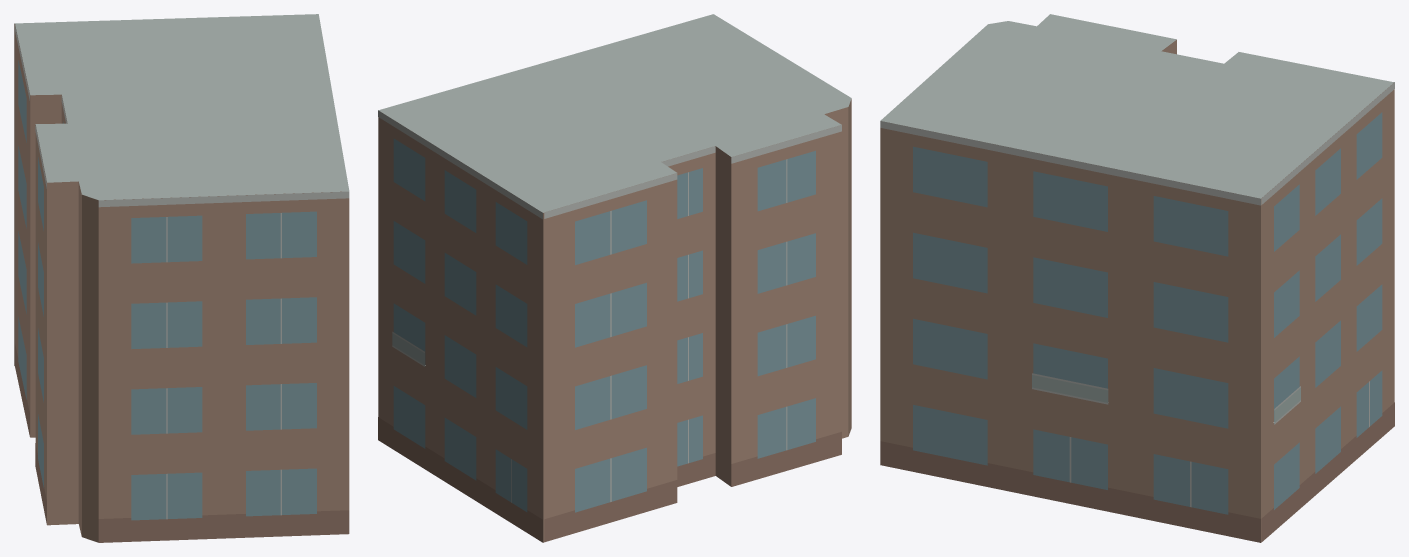
Rendered from survey-upis-32779606.glb.
The picture shows the model from 3 angles, left to right: view 1: azimuth 30°, elevation 25°; view 2: azimuth 150°, elevation 25°; view 3: azimuth 270°, elevation 25°; orthographic projection. The views are drawn at different scales.
Visible parts, largest first — view 1: survey-upis-32779606.tmp; view 2: survey-upis-32779606.tmp; view 3: survey-upis-32779606.tmp.
Boxes of the visible parts, x1,y1,x2,y2 form: survey-upis-32779606.tmp: [14, 14, 349, 542]; survey-upis-32779606.tmp: [378, 14, 851, 542]; survey-upis-32779606.tmp: [880, 14, 1394, 542].
Bounding box in the file's own units: 13.93 × 12.1 × 16.4.
